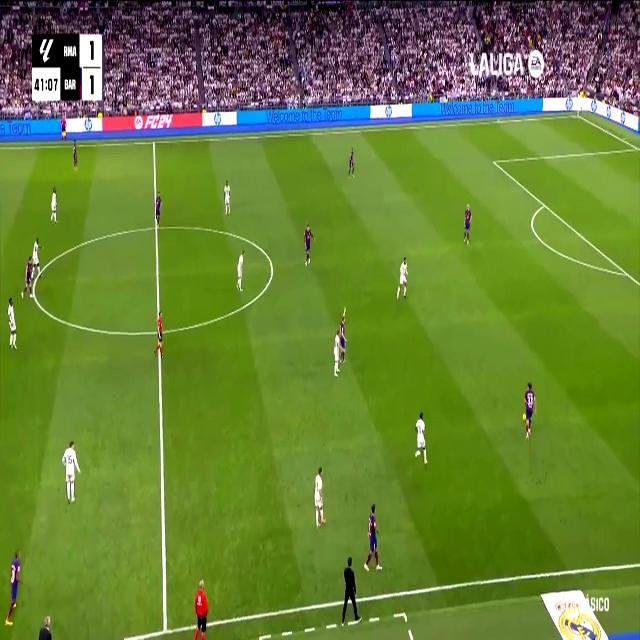bigarea_top_inner: (490, 154, 497, 168)
bottom_arc_area_intersection: (622, 263, 630, 282)
corner: (574, 110, 581, 120)
halfcircle_top: (151, 218, 161, 237)
midline_top_intersection: (150, 135, 158, 149)
top_arc_area_intersection: (541, 196, 548, 212)
